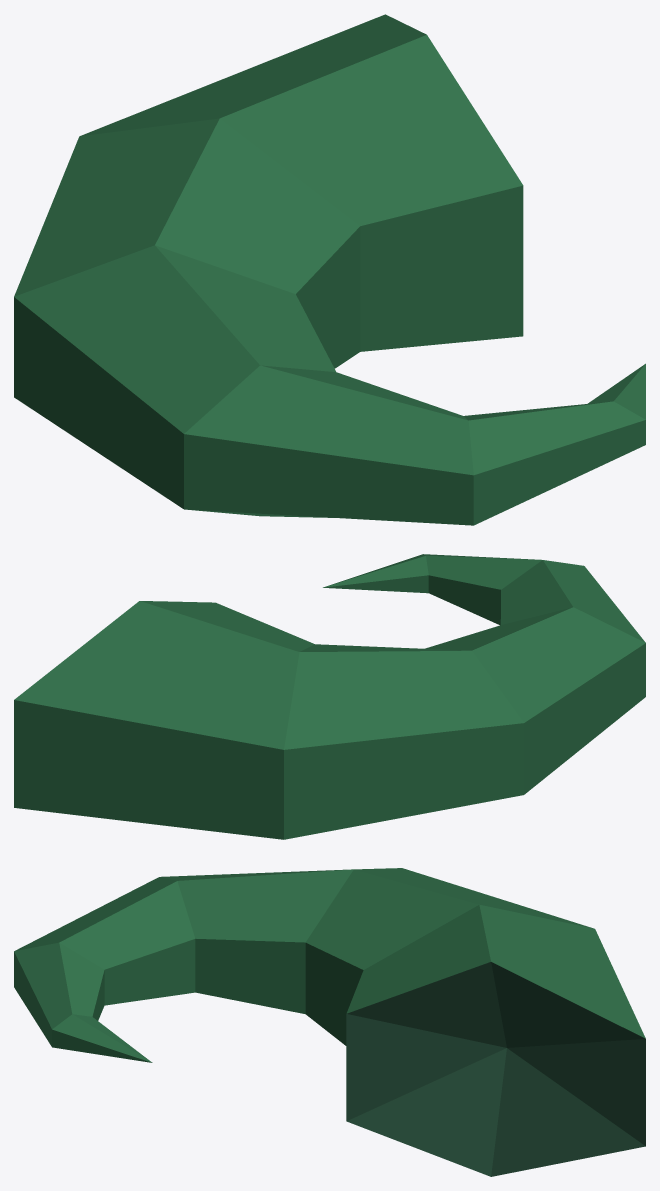
Rendered from Nail.fbx.
3 renders of one model, top to bottom at view 1: azimuth 30°, elevation 25°; view 2: azimuth 150°, elevation 25°; view 3: azimuth 270°, elevation 25°, orthographic. The views are drawn at different scales.
Visible parts, largest first — view 1: Nail; view 2: Nail; view 3: Nail.
Part boxes in pixels (left/top/right/bottom): Nail: left=14, top=14, right=645, bottom=525; Nail: left=14, top=554, right=645, bottom=839; Nail: left=14, top=868, right=645, bottom=1176.
Size of the model in its own units: 5.73 by 3.04 by 8.1.
